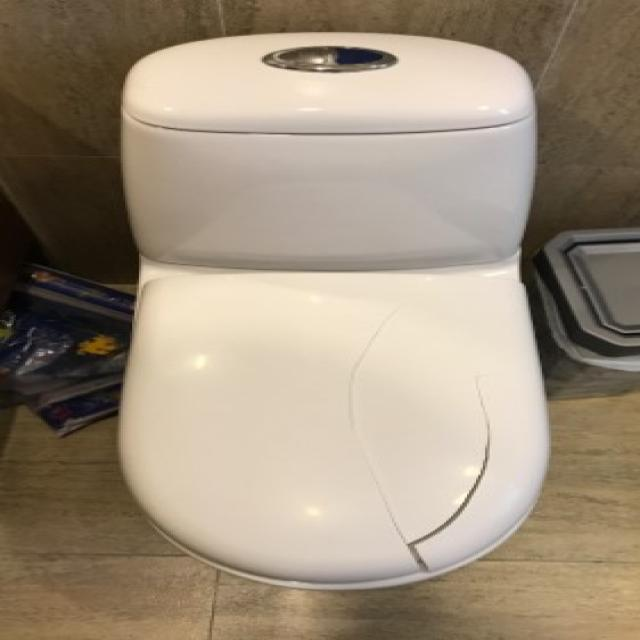toilet: (114, 31, 551, 590)
